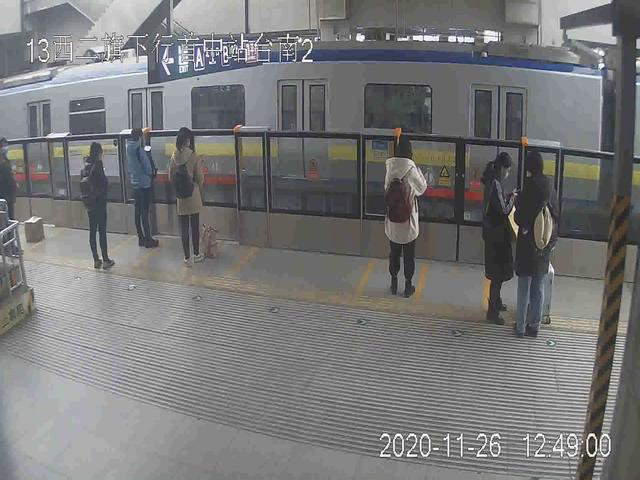person: (519, 146, 562, 336), (164, 128, 216, 264), (475, 146, 514, 327), (382, 135, 425, 296), (76, 141, 118, 272), (126, 126, 167, 252)
